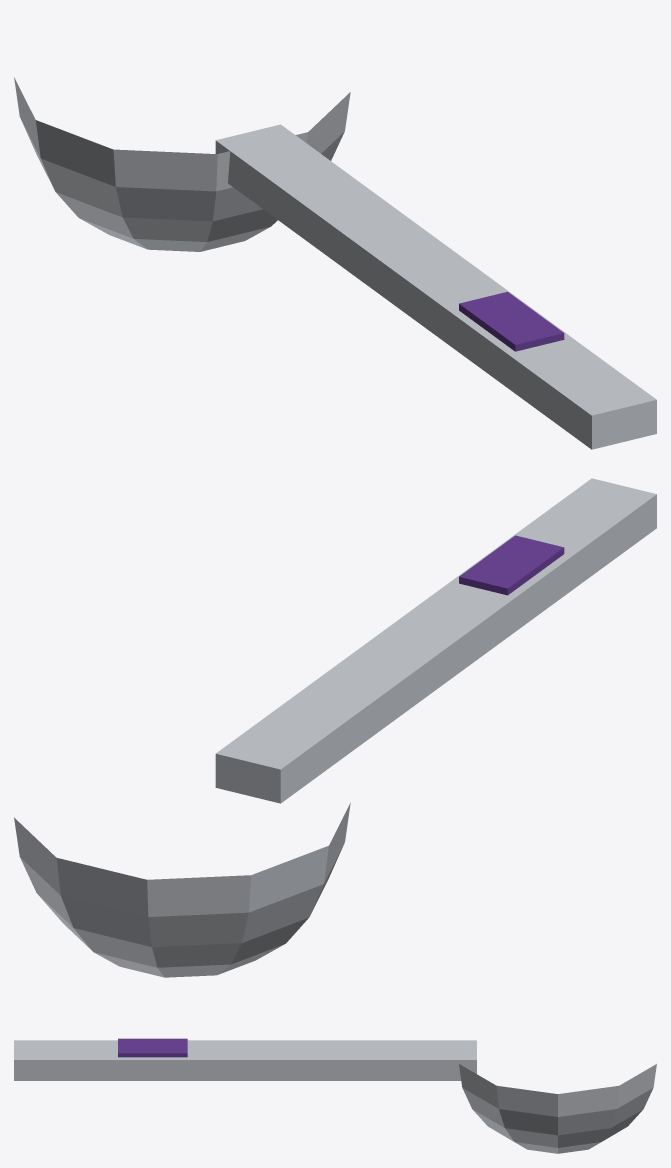
Rendered from measuring_spoon.glb.
3 renders of one model, top to bottom at view 1: azimuth 30°, elevation 25°; view 2: azimuth 150°, elevation 25°; view 3: azimuth 270°, elevation 25°, orthographic. The views are drawn at different scales.
Visible parts, largest first — view 1: handle_steel_spoon, bowl_steel_spoon, mark_lid_purple; view 2: handle_steel_spoon, bowl_steel_spoon, mark_lid_purple; view 3: handle_steel_spoon, bowl_steel_spoon, mark_lid_purple.
Part boxes in pixels (x1=…): handle_steel_spoon: x1=215, y1=124, x2=656, y2=449; bowl_steel_spoon: x1=14, y1=77, x2=350, y2=251; mark_lid_purple: x1=459, y1=291, x2=564, y2=351; handle_steel_spoon: x1=215, y1=478, x2=656, y2=803; bowl_steel_spoon: x1=14, y1=803, x2=350, y2=977; mark_lid_purple: x1=459, y1=535, x2=564, y2=595; handle_steel_spoon: x1=14, y1=1040, x2=476, y2=1080; bowl_steel_spoon: x1=459, y1=1064, x2=656, y2=1153; mark_lid_purple: x1=118, y1=1038, x2=187, y2=1057.
Bounding box in the file's own units: 0.18 × 0.094 × 0.5556.
